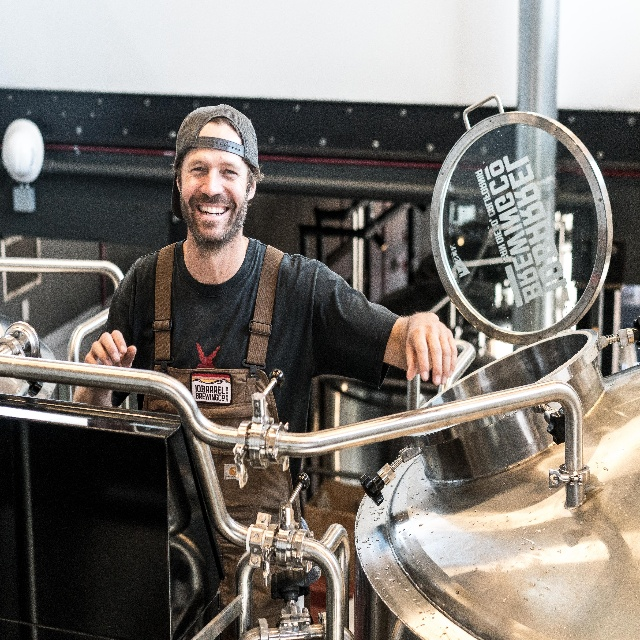Sin_guantes: (404, 310, 459, 388), (84, 329, 138, 372)
